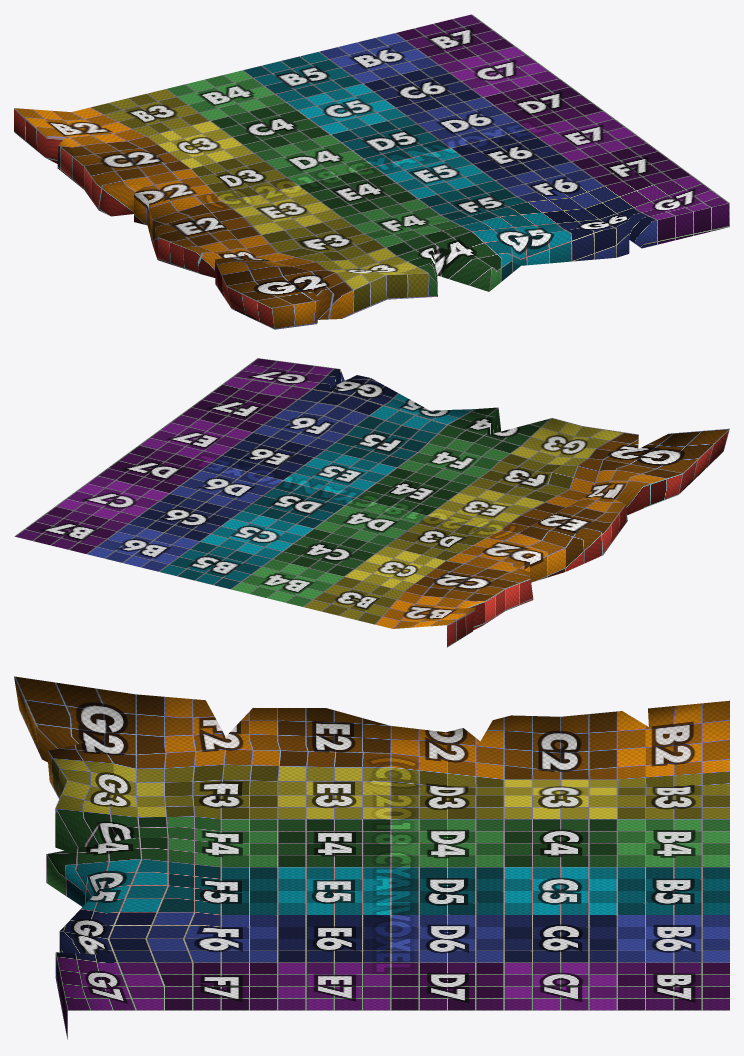
File: map_corner.fbx
3 renders of one model, top to bottom at view 1: azimuth 30°, elevation 25°; view 2: azimuth 150°, elevation 25°; view 3: azimuth 270°, elevation 25°, orthographic. The views are drawn at different scales.
Parts seen in each view (by area): view 1: Cube.005; view 2: Cube.005; view 3: Cube.005.
Part boxes in pixels (x1,y1,x2,y2): Cube.005: [14, 14, 729, 329]; Cube.005: [14, 358, 729, 647]; Cube.005: [14, 676, 729, 1039].
Size of the model in its own units: 209 by 21.21 by 211.
